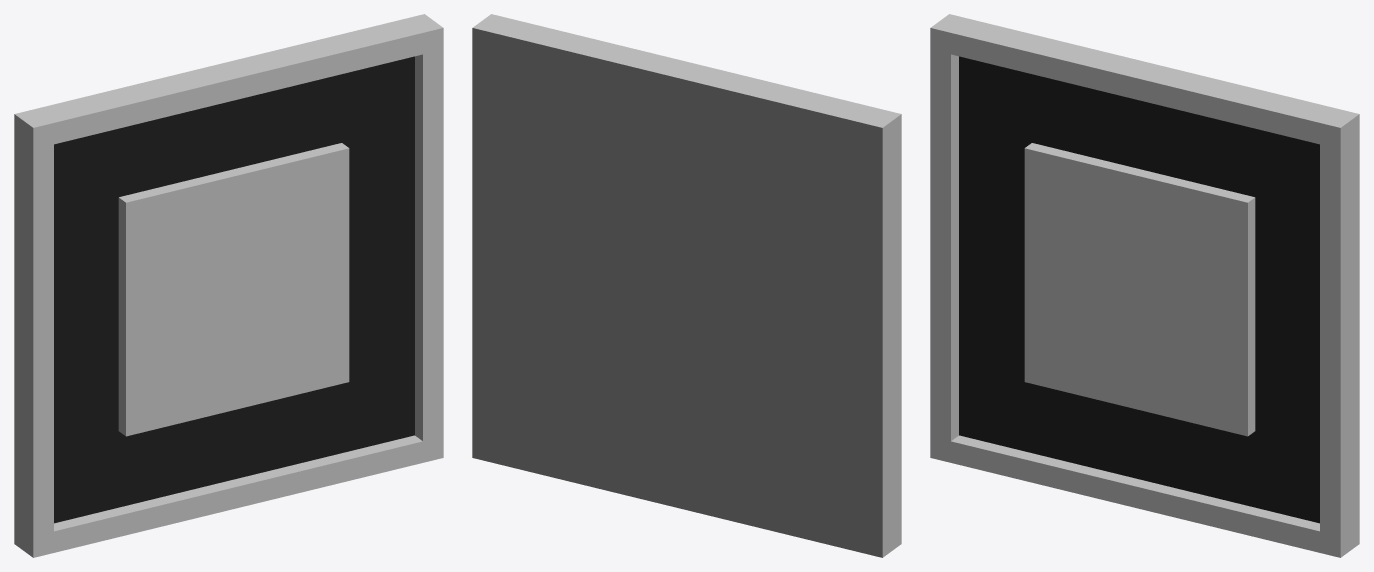
Rendered from Painting_Small.fbx.
The picture shows the model from 3 angles, left to right: view 1: azimuth 30°, elevation 25°; view 2: azimuth 150°, elevation 25°; view 3: azimuth 330°, elevation 25°; orthographic projection.
Visible parts, largest first — view 1: Painting_Small.001; view 2: Painting_Small.001; view 3: Painting_Small.001.
Boxes of the visible parts, <box> form: Painting_Small.001: <box>14,14,443,557</box>; Painting_Small.001: <box>472,14,901,557</box>; Painting_Small.001: <box>930,14,1359,557</box>.
Size of the model in its own units: 0.4584 by 0.0367 by 0.4592.
